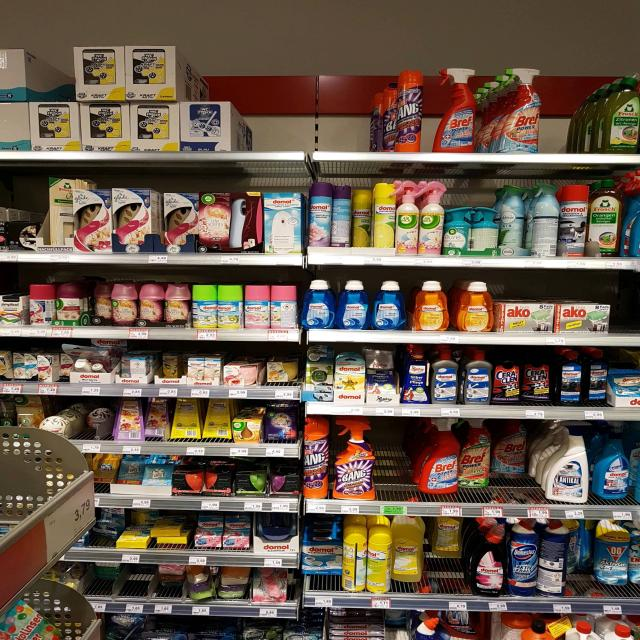void: (233, 45, 392, 153), (552, 62, 594, 150), (378, 420, 417, 499), (609, 276, 640, 332)
